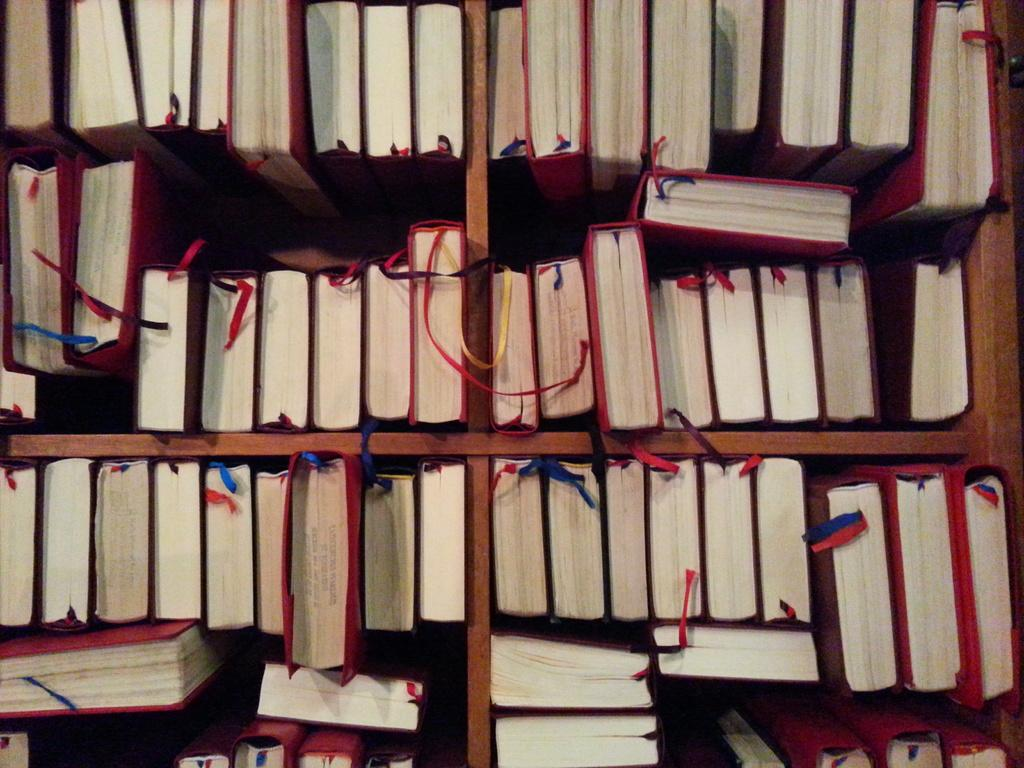Book: (490, 0, 989, 430), (0, 0, 472, 431), (489, 458, 1007, 767), (0, 458, 465, 767), (291, 459, 360, 680)
